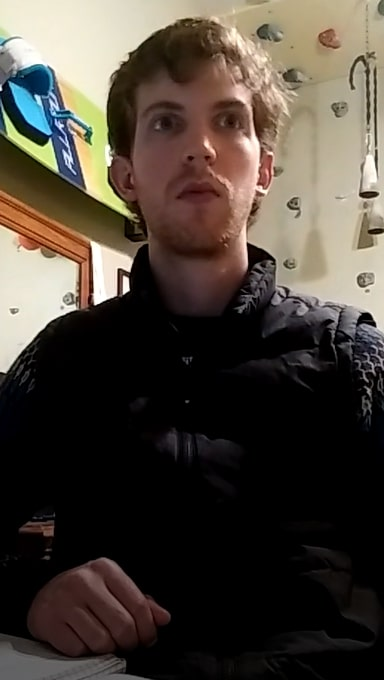Not Sleeping: (140, 97, 256, 141)
